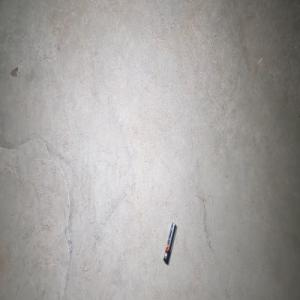Battery: (163, 221, 177, 265)
